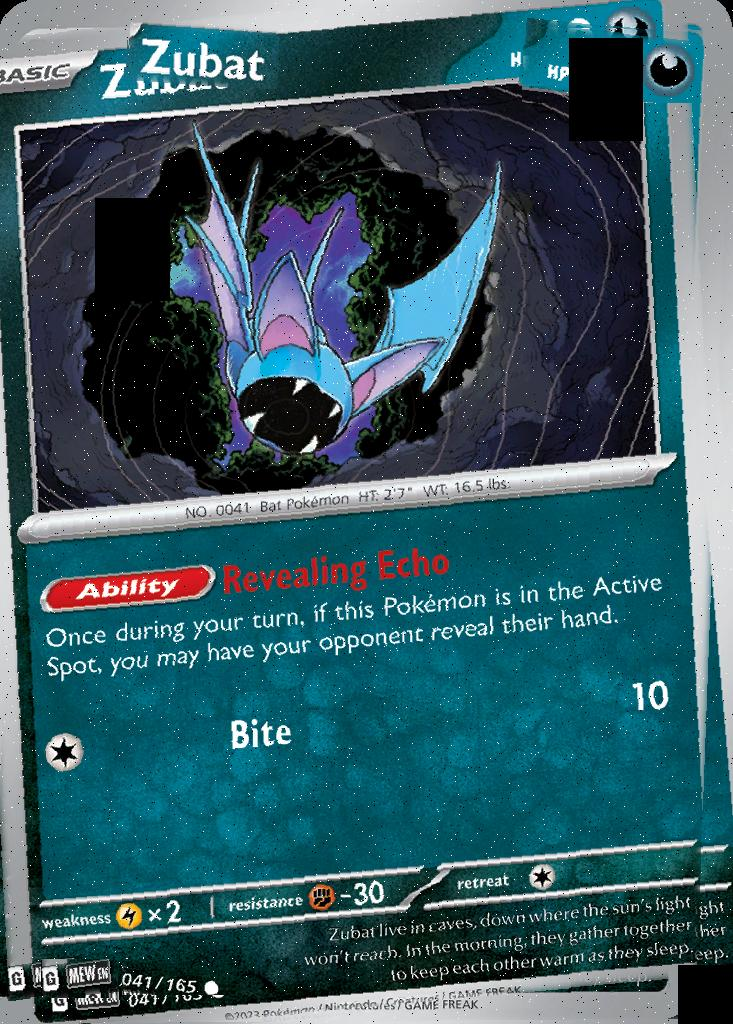card: (0, 0, 733, 1024)
hp: (523, 27, 706, 103)
name: (128, 23, 279, 90)
set num: (123, 962, 226, 995)
set symbol: (42, 959, 120, 998)
